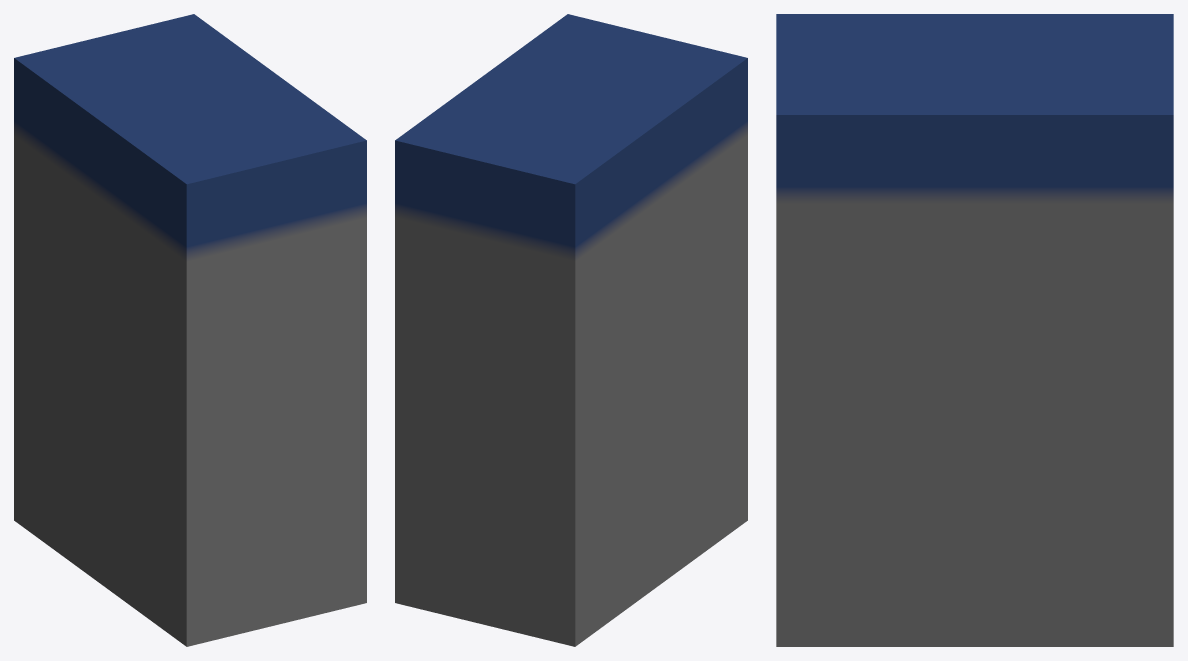
Rendered from Itr_Obj_Book3_05.FBX.
The picture shows the model from 3 angles, left to right: view 1: azimuth 30°, elevation 25°; view 2: azimuth 150°, elevation 25°; view 3: azimuth 270°, elevation 25°; orthographic projection. The views are drawn at different scales.
Visible parts, largest first — view 1: Itr_Obj_Book3_05; view 2: Itr_Obj_Book3_05; view 3: Itr_Obj_Book3_05.
Boxes of the visible parts, x1,y1,x2,y2 form: Itr_Obj_Book3_05: (14,14,366,646); Itr_Obj_Book3_05: (395,14,747,646); Itr_Obj_Book3_05: (776,14,1173,646).
Size of the model in its own units: 3.41 by 8.38 by 5.67.
